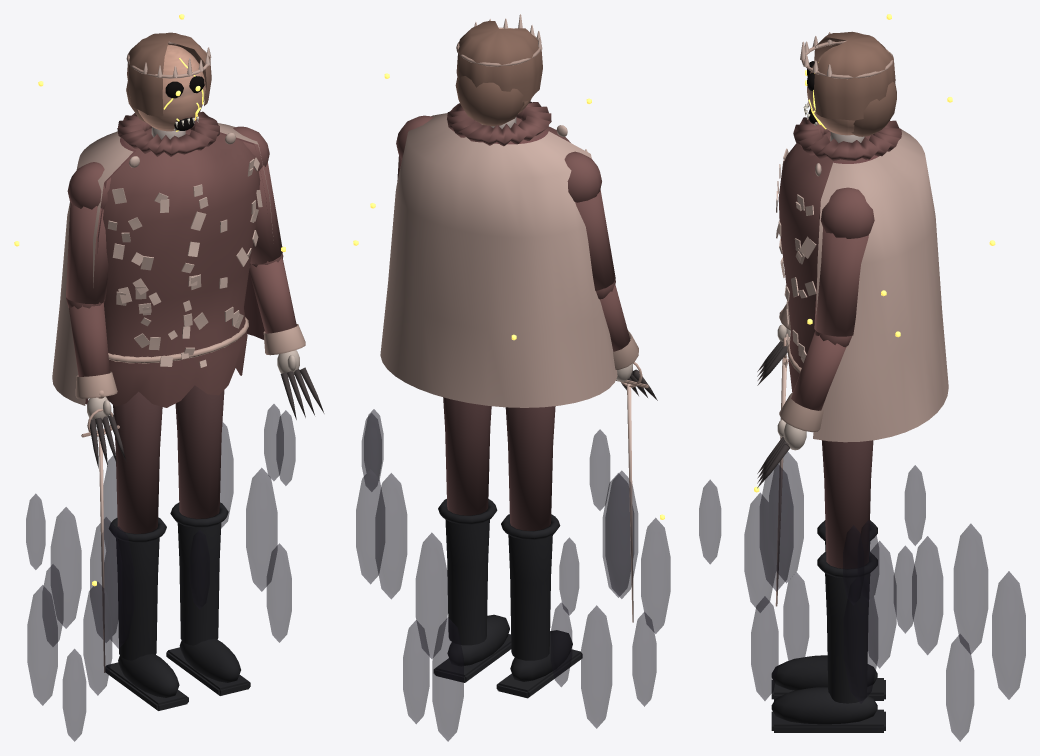
File: the_reflection.glb
The picture shows the model from 3 angles, left to right: view 1: azimuth 30°, elevation 25°; view 2: azimuth 150°, elevation 25°; view 3: azimuth 270°, elevation 25°; orthographic projection. The views are drawn at different scales.
Visible parts, largest first — view 1: Reflection_Root_ReflectionDoublet, Reflection_Root_HSmoke, LegB_ReflectionBoot, LegA_ReflectionBoot, ArmA_ReflectionDoublet, LegLegA, LegLegB, ArmB_ReflectionDoublet, Reflection_Root_ReflectionShard, Cape, Head_ReflectionHair, Face (+8 smaller); view 2: Cape, Reflection_Root_HSmoke, LegA_ReflectionBoot, LegB_ReflectionBoot, Head_ReflectionHair, LegLegA, LegLegB, ArmA_ReflectionDoublet, Reflection_Root_ReflectionDoublet, Blade, ArmA_ReflectionTrim, ArmB_ReflectionDoublet; view 3: Reflection_Root_HSmoke, Cape, LegB_ReflectionBoot, Reflection_Root_ReflectionDoublet, ArmB_ReflectionDoublet, Head_ReflectionHair, LegLegB, LegA_ReflectionBoot, Reflection_Root_ReflectionShard, CuffArmB, Face, Blade (+2 smaller).
Boxes of the visible parts, bbox=[...] form: Reflection_Root_ReflectionDoublet: bbox=[103, 111, 260, 407]; Reflection_Root_HSmoke: bbox=[26, 404, 295, 741]; LegB_ReflectionBoot: bbox=[166, 502, 250, 695]; LegA_ReflectionBoot: bbox=[105, 517, 188, 710]; ArmA_ReflectionDoublet: bbox=[66, 162, 110, 376]; LegLegA: bbox=[113, 391, 162, 533]; LegLegB: bbox=[175, 385, 224, 518]; ArmB_ReflectionDoublet: bbox=[233, 126, 296, 333]; Reflection_Root_ReflectionShard: bbox=[107, 157, 262, 367]; Cape: bbox=[52, 123, 273, 405]; Head_ReflectionHair: bbox=[126, 32, 211, 123]; Face: bbox=[137, 44, 205, 131]; Cape: bbox=[380, 113, 617, 407]; Reflection_Root_HSmoke: bbox=[356, 409, 670, 741]; LegA_ReflectionBoot: bbox=[496, 514, 582, 698]; LegB_ReflectionBoot: bbox=[433, 499, 511, 682]; Head_ReflectionHair: bbox=[455, 21, 542, 126]; LegLegA: bbox=[505, 406, 555, 530]; LegLegB: bbox=[443, 397, 491, 515]; ArmA_ReflectionDoublet: bbox=[564, 151, 630, 351]; Reflection_Root_ReflectionDoublet: bbox=[447, 101, 570, 146]; Blade: bbox=[627, 383, 633, 622]; ArmA_ReflectionTrim: bbox=[613, 330, 648, 388]; ArmB_ReflectionDoublet: bbox=[396, 115, 433, 180]; Reflection_Root_HSmoke: bbox=[699, 452, 1025, 741]; Cape: bbox=[813, 129, 948, 442]; LegB_ReflectionBoot: bbox=[771, 551, 885, 732]; Reflection_Root_ReflectionDoublet: bbox=[778, 117, 901, 392]; ArmB_ReflectionDoublet: bbox=[791, 187, 874, 410]; Head_ReflectionHair: bbox=[813, 31, 896, 136]; LegLegB: bbox=[822, 440, 873, 568]; LegA_ReflectionBoot: bbox=[771, 520, 885, 700]; Reflection_Root_ReflectionShard: bbox=[776, 148, 816, 367]; CuffArmB: bbox=[779, 393, 823, 432]; Face: bbox=[807, 46, 855, 135]; Blade: bbox=[775, 356, 787, 606].
Bounding box in the file's own units: 0.7516 × 1.82 × 0.7819.
Materials: 18 (1 with a texture image).
